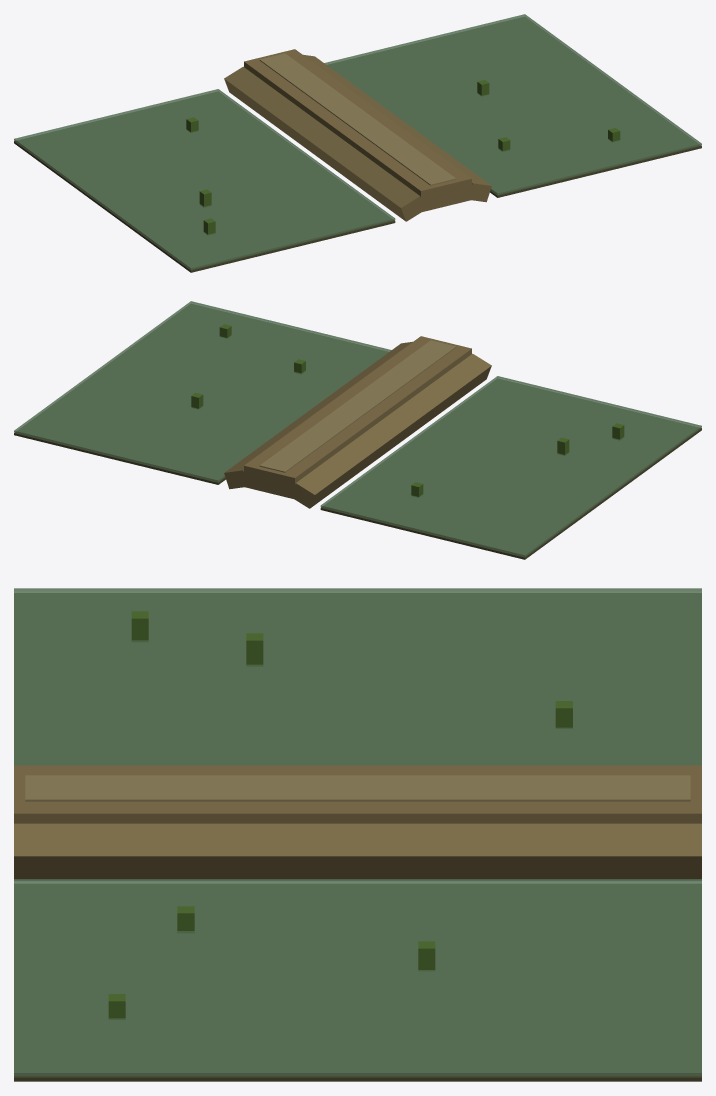
Rendered from rice-dike.glb.
3 renders of one model, top to bottom at view 1: azimuth 30°, elevation 25°; view 2: azimuth 150°, elevation 25°; view 3: azimuth 270°, elevation 25°, orthographic. The views are drawn at different scales.
Parts seen in each view (by area): view 1: Mesh_WaterLeft, Mesh_MudLeft, Mesh_WaterRight, Mesh_MudRight, Mesh_DikeSlopeLeft, Mesh_DikeTop, Mesh_FootPath, Mesh_DikeSlopeRight; view 2: Mesh_WaterLeft, Mesh_MudLeft, Mesh_WaterRight, Mesh_MudRight, Mesh_DikeSlopeLeft, Mesh_DikeTop, Mesh_FootPath, Mesh_DikeSlopeRight; view 3: Mesh_MudRight, Mesh_WaterRight, Mesh_WaterLeft, Mesh_MudLeft, Mesh_DikeSlopeRight, Mesh_DikeTop, Mesh_FootPath.
Boxes of the visible parts, x1,y1,x2,y2 form: Mesh_WaterLeft: [14, 89, 395, 269]; Mesh_MudLeft: [14, 92, 395, 272]; Mesh_WaterRight: [324, 14, 701, 194]; Mesh_MudRight: [328, 17, 701, 197]; Mesh_DikeSlopeLeft: [224, 66, 425, 221]; Mesh_DikeTop: [244, 49, 471, 211]; Mesh_FootPath: [259, 53, 456, 185]; Mesh_DikeSlopeRight: [303, 54, 491, 202]; Mesh_WaterLeft: [320, 376, 701, 556]; Mesh_MudLeft: [320, 379, 701, 559]; Mesh_WaterRight: [14, 301, 391, 481]; Mesh_MudRight: [14, 304, 387, 484]; Mesh_DikeSlopeLeft: [290, 353, 491, 508]; Mesh_DikeTop: [244, 336, 471, 498]; Mesh_FootPath: [259, 340, 456, 472]; Mesh_DikeSlopeRight: [224, 341, 412, 489]; Mesh_MudRight: [14, 884, 701, 1081]; Mesh_WaterRight: [14, 879, 701, 1075]; Mesh_WaterLeft: [14, 588, 701, 765]; Mesh_MudLeft: [14, 593, 701, 764]; Mesh_DikeSlopeRight: [14, 823, 701, 879]; Mesh_DikeTop: [14, 765, 701, 823]; Mesh_FootPath: [25, 775, 690, 801].
Bounding box in the file's own units: 10 × 0.5294 × 6.
